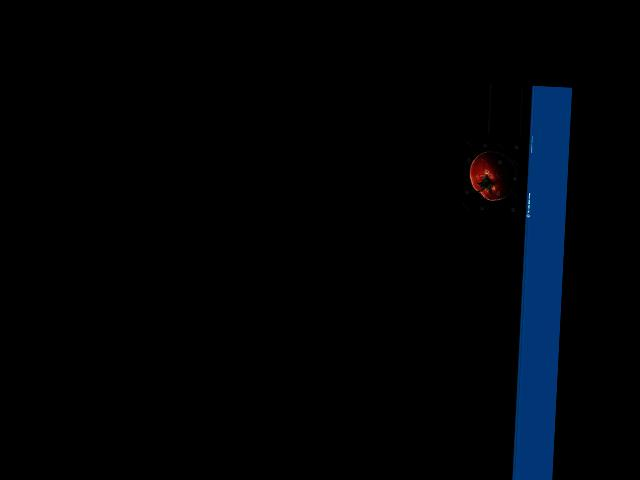tomato: (468, 149, 518, 201)
